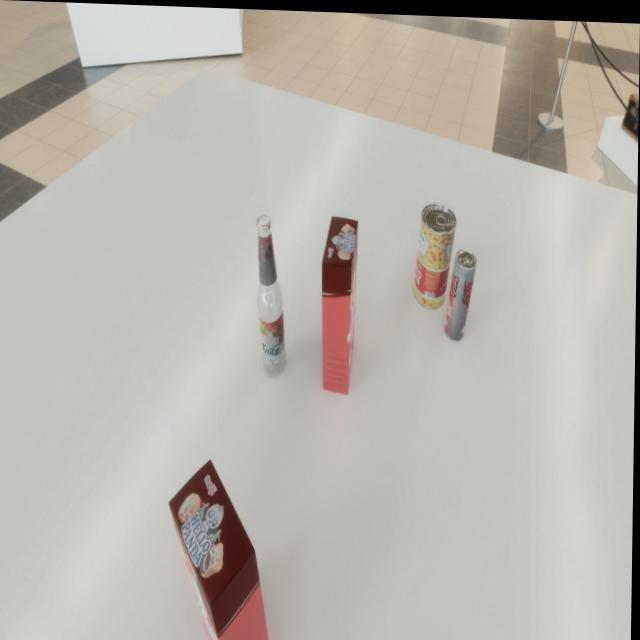Bottle: (256, 213, 290, 375)
HelloPanda: (169, 456, 277, 640), (321, 214, 359, 392)
Potato_sticks: (414, 199, 458, 306)
Rita_zero_sugar: (445, 245, 478, 338)
